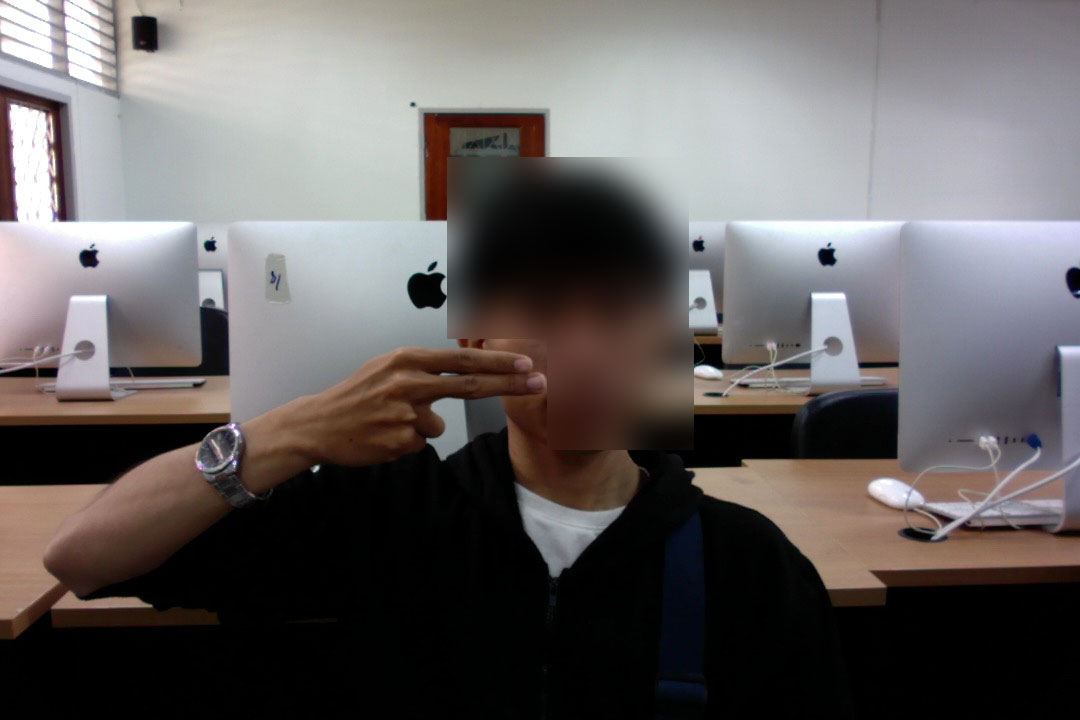hor: (321, 344, 547, 474)
